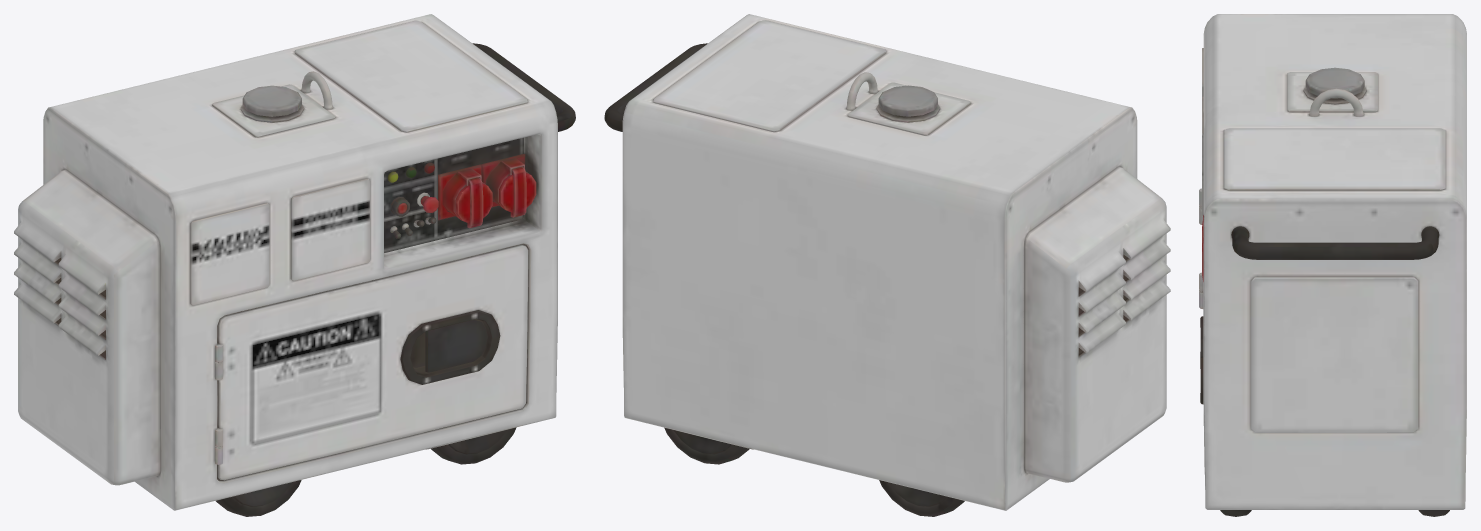
The model's file is diesel-generator.glb.
3 renders of one model, left to right at view 1: azimuth 30°, elevation 25°; view 2: azimuth 150°, elevation 25°; view 3: azimuth 270°, elevation 25°, orthographic.
Visible parts, largest first — view 1: polySurface52; view 2: polySurface52; view 3: polySurface52.
Boxes of the visible parts, box(x1,y1,x2,y2) form: polySurface52: box(14, 14, 575, 516); polySurface52: box(604, 14, 1170, 516); polySurface52: box(1199, 14, 1466, 516).
Size of the model in its own units: 1.6 by 1.2 by 0.7802.
1 material, 1 textured.
